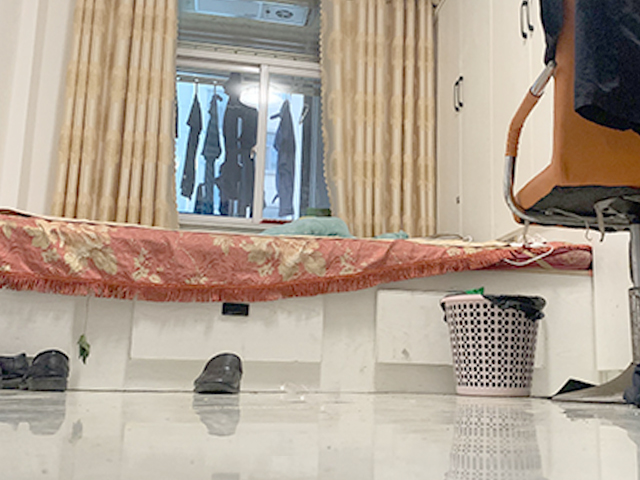bed: (1, 206, 594, 397)
curtain: (46, 1, 180, 227), (321, 1, 436, 236)
stool: (503, 1, 640, 406)
trashcan: (440, 292, 546, 399)
